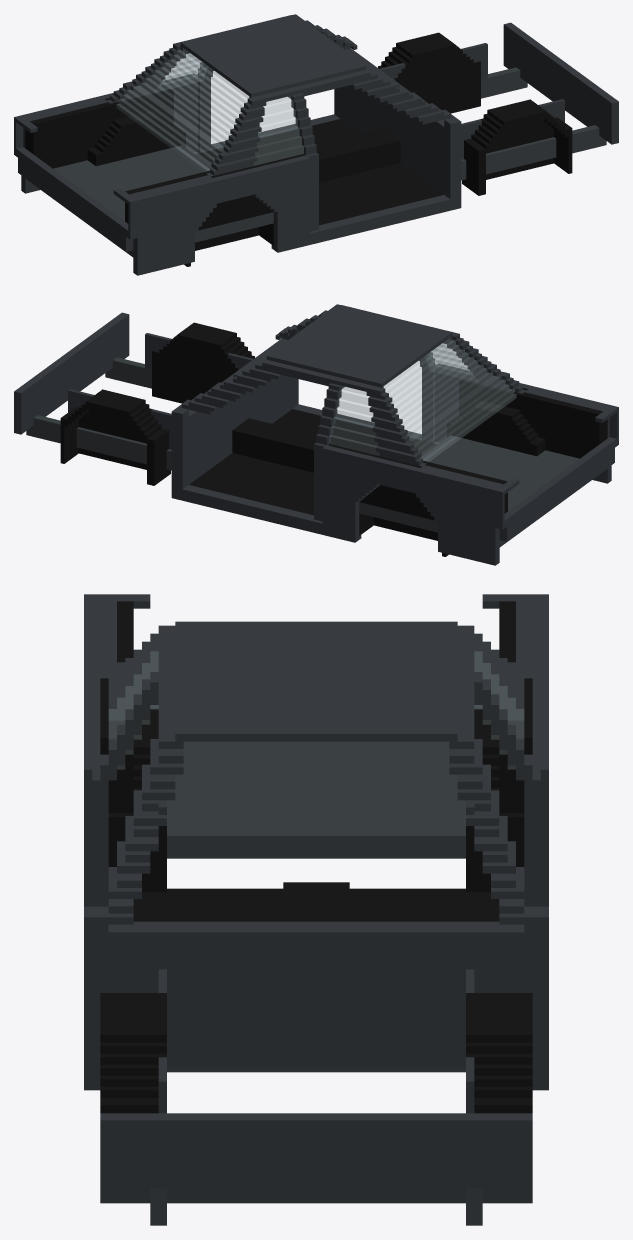
The model's file is coupe_shell.glb.
3 renders of one model, top to bottom at view 1: azimuth 30°, elevation 25°; view 2: azimuth 150°, elevation 25°; view 3: azimuth 270°, elevation 25°, orthographic. The views are drawn at different scales.
Parts seen in each view (by area): view 1: body:compound; view 2: body:compound; view 3: body:compound.
Boxes of the visible parts, box(x1,y1,x2,y2) form: body:compound: box(14, 14, 618, 275); body:compound: box(14, 304, 618, 565); body:compound: box(84, 594, 548, 1225).
Bounding box in the file's own units: 4.28 × 1.19 × 1.75.
